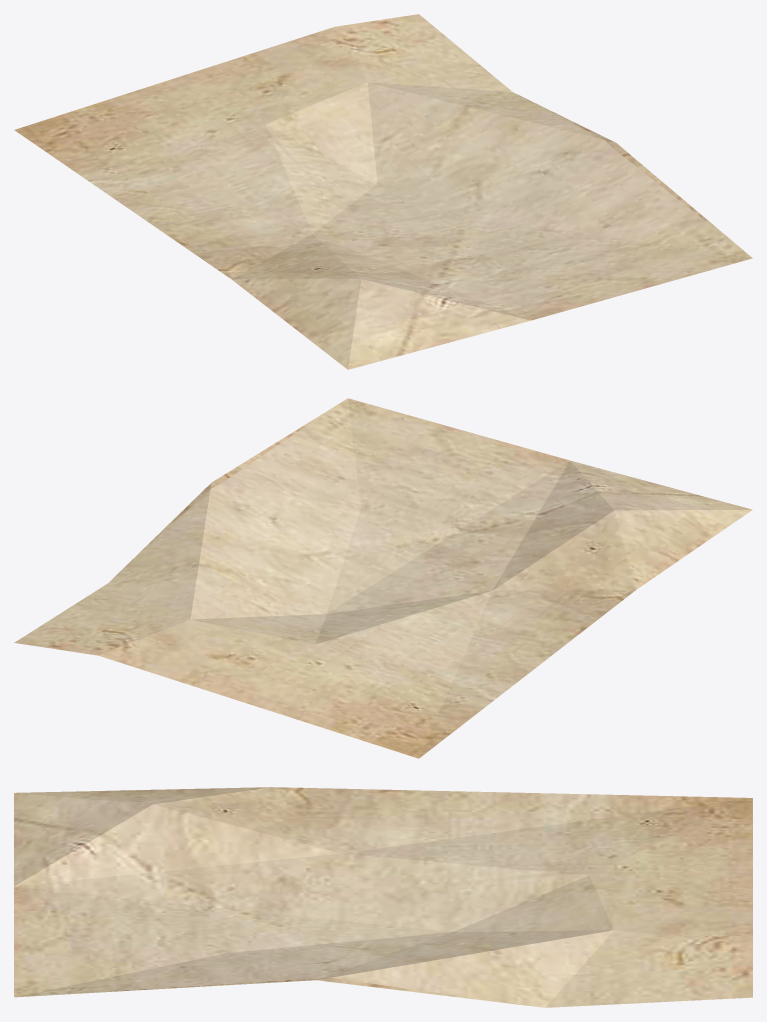
Rendered from journalPage.gltf.
The picture shows the model from 3 angles, top to bottom: view 1: azimuth 30°, elevation 25°; view 2: azimuth 150°, elevation 25°; view 3: azimuth 270°, elevation 25°; orthographic projection. The views are drawn at different scales.
Visible parts, largest first — view 1: journal_page; view 2: journal_page; view 3: journal_page.
Part boxes in pixels (<box>): journal_page: <box>14,14,752,369</box>; journal_page: <box>14,398,752,758</box>; journal_page: <box>14,787,752,1007</box>.
Bounding box in the file's own units: 0.42 × 0.0426 × 0.6.
1 material, 1 textured.
